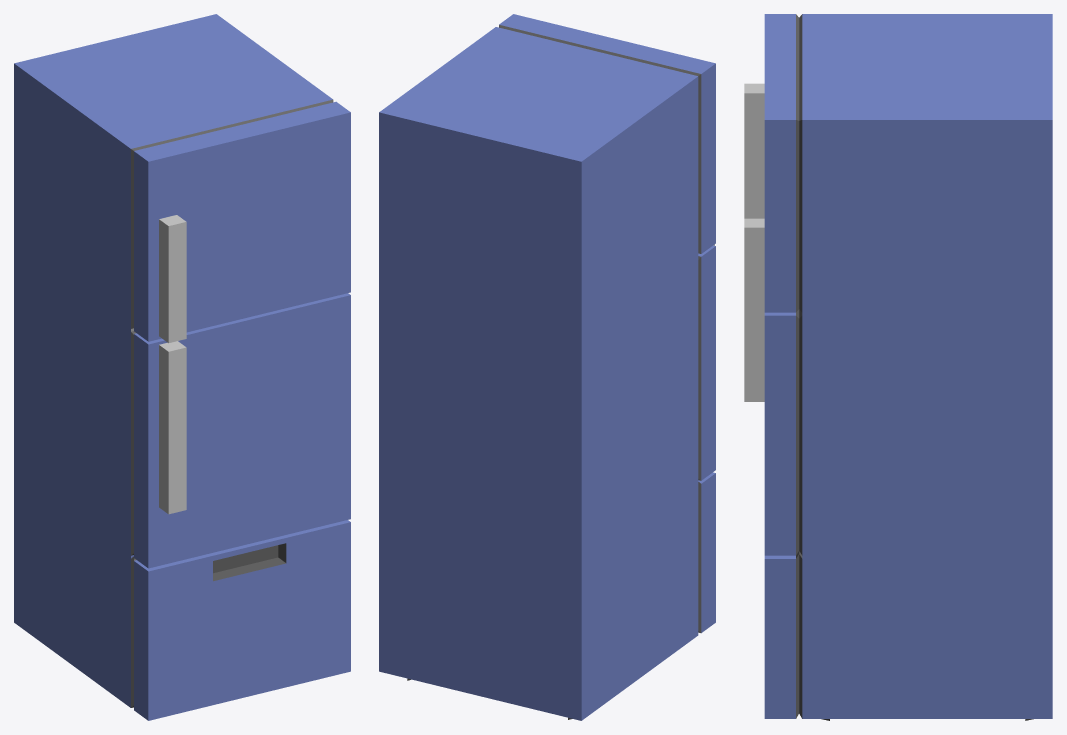
File: Refrigerator11.fbx
3 views of the same model, side by side, from view 1: azimuth 30°, elevation 25°; view 2: azimuth 150°, elevation 25°; view 3: azimuth 270°, elevation 25° (orthographic). The views are drawn at different scales.
Visible parts, largest first — view 1: Cube; view 2: Cube; view 3: Cube.
Boxes of the visible parts, <box> form: Cube: <box>14,14,350,720</box>; Cube: <box>379,14,715,720</box>; Cube: <box>744,14,1052,720</box>.
Size of the model in its own units: 1 by 2.69 by 1.23.
